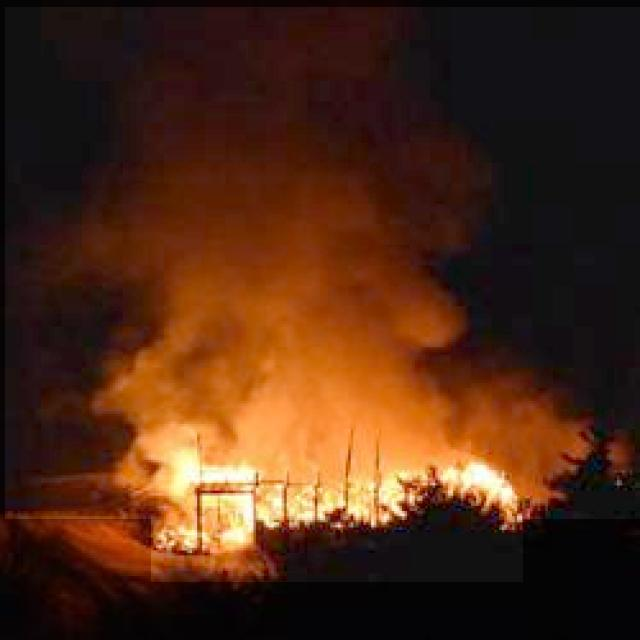Fire: (151, 430, 523, 582)
Smoke: (5, 8, 640, 520)
